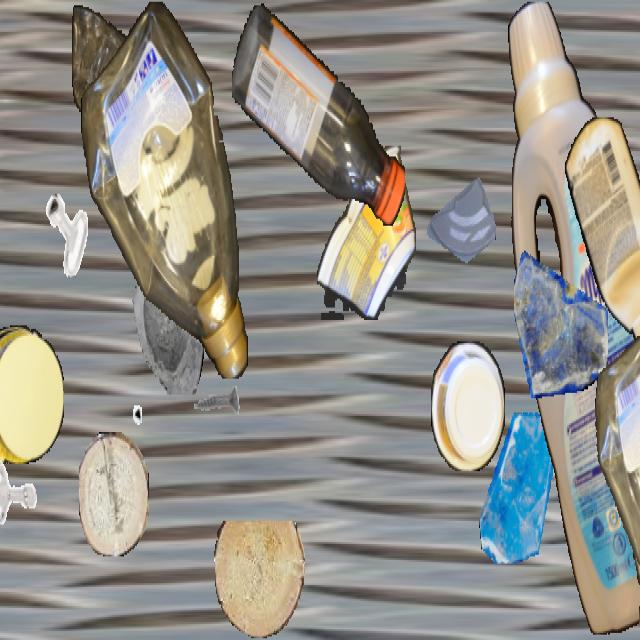glass: (514, 231, 608, 398), (117, 234, 207, 394), (477, 412, 561, 562), (427, 166, 495, 286)
metal: (189, 363, 241, 455), (0, 439, 43, 549), (92, 353, 142, 442), (43, 190, 91, 276), (629, 267, 640, 377)
plastic: (506, 2, 640, 634), (81, 1, 249, 378), (232, 2, 404, 229), (565, 117, 640, 345), (317, 146, 415, 320), (590, 311, 640, 638), (431, 342, 505, 469), (72, 2, 146, 126), (0, 325, 63, 464)
wood: (214, 521, 304, 638), (79, 432, 149, 556), (631, 450, 640, 638), (639, 471, 640, 638)
